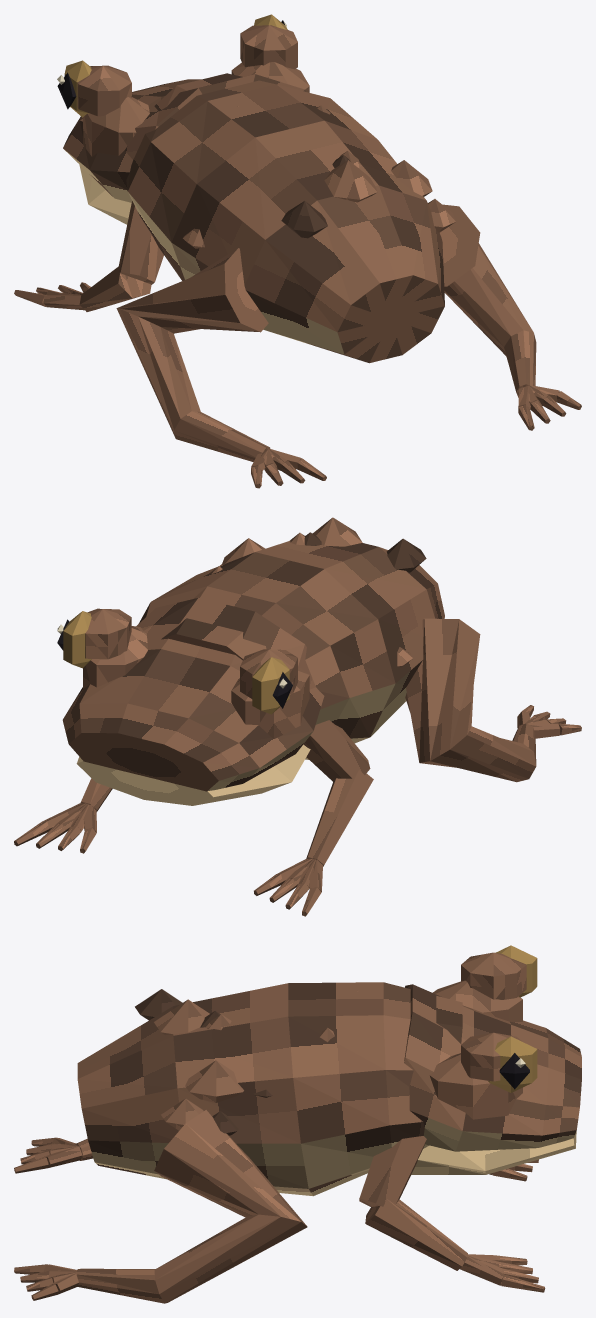
File: mon_freedom_toad.glb
3 renders of one model, top to bottom at view 1: azimuth 30°, elevation 25°; view 2: azimuth 150°, elevation 25°; view 3: azimuth 270°, elevation 25°, orthographic.
Visible parts, largest first — view 1: closed_body; view 2: closed_body; view 3: closed_body.
Boxes of the visible parts, x1=… form: closed_body: x1=14, y1=14, x2=581, y2=488; closed_body: x1=14, y1=517, x2=581, y2=916; closed_body: x1=14, y1=945, x2=581, y2=1303.
Bounding box in the file's own units: 0.1463 × 0.0909 × 0.201.
1 material, 1 textured.
